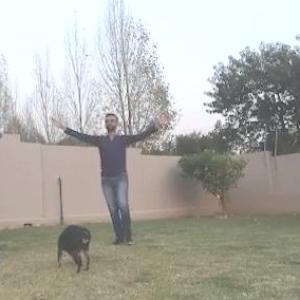takeoff: (38, 94, 166, 256)
